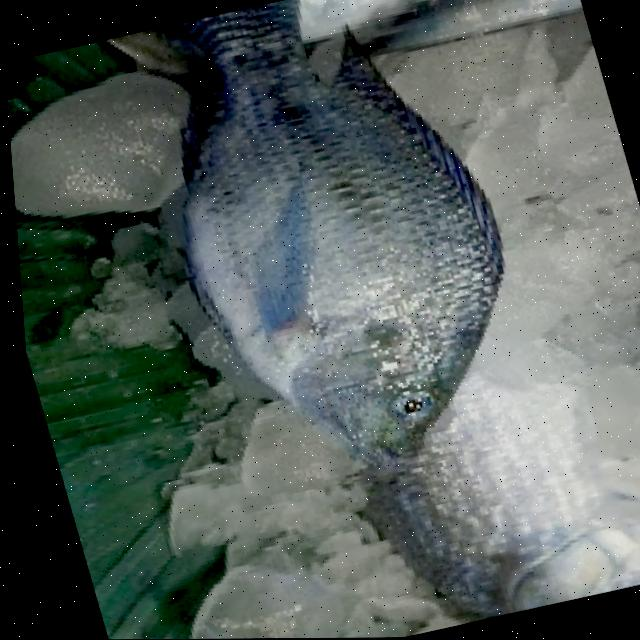Fresh: (106, 7, 576, 505)
